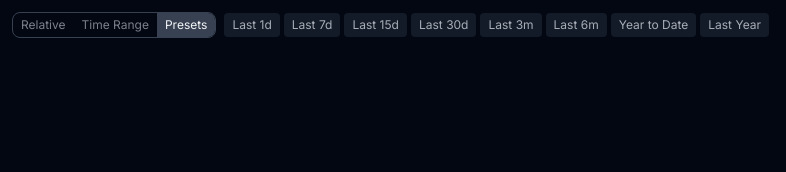
Test case: HuntTimeFilter › Relative mode: "Last N days" resolves from = today - N days
The width and height of the screenshot is (786, 172).
Click the button "Relative".
click(43, 25)  # box [13, 13, 74, 37]
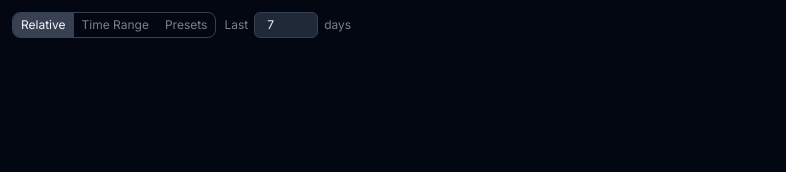
Replace the text in the number field named "Number of days" with "5" at (286, 25), box [254, 12, 318, 38]
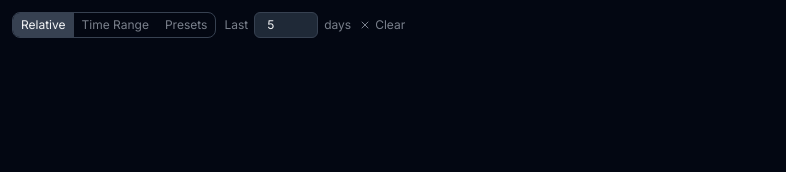
Expected: the button "Clear" is shown, [359, 17, 405, 33]
